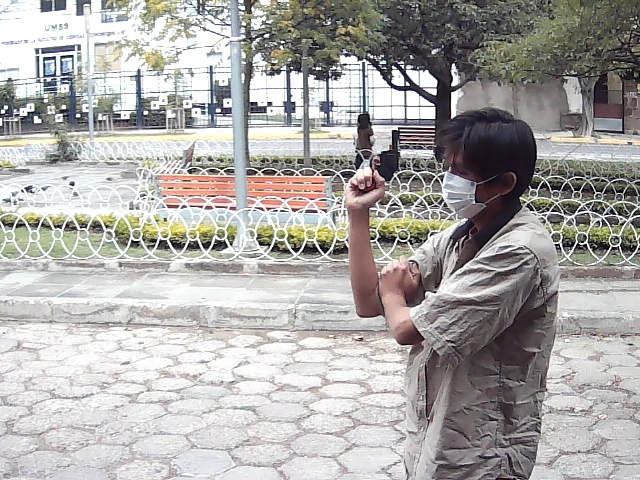pistola: (338, 125, 408, 216)
